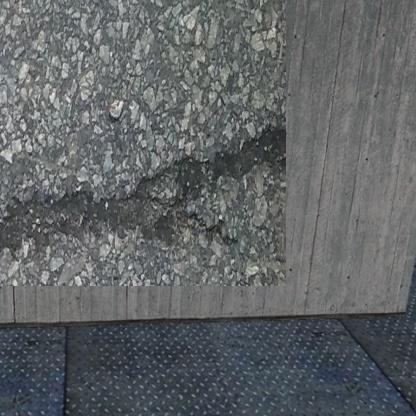Cracks: (0, 110, 264, 253)
